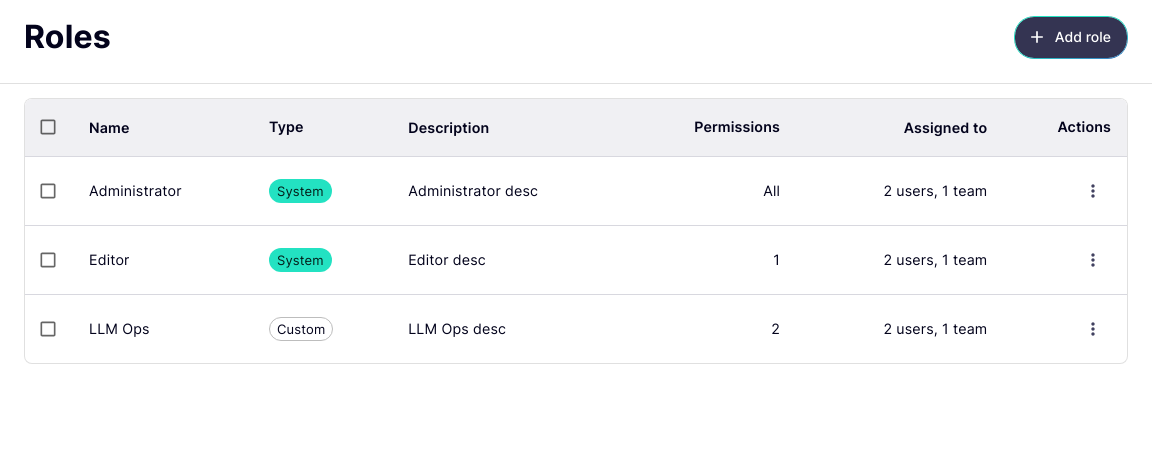
Scenario: Roles page › does not let system roles be edited or deleted
Check: the row with test id "role-row-editor" is shown, box [25,226,1127,294]
Click the button named "Actions for Editor": (1093, 260) [1075,242,1111,278]
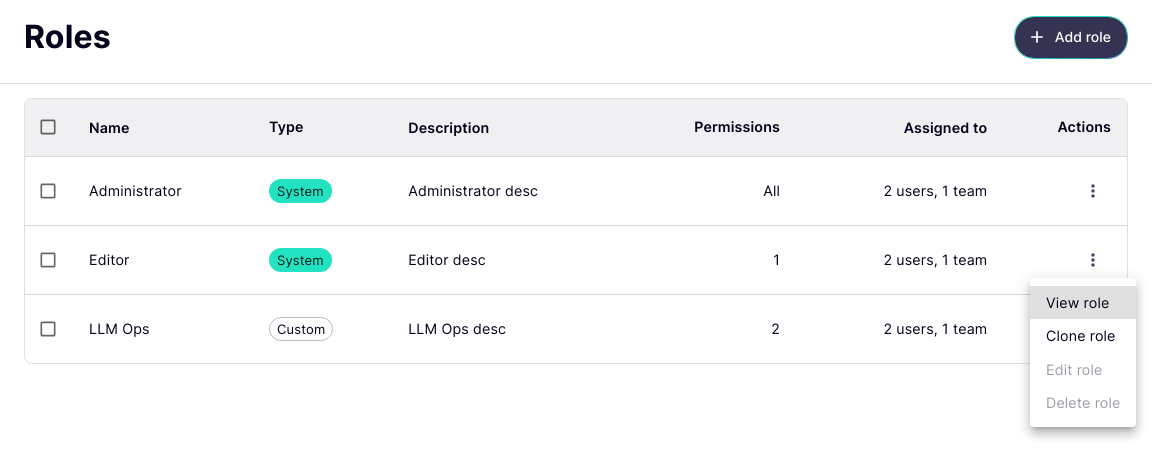
Check: the menu item "Clone role" is shown, box [1046,327,1116,344]
